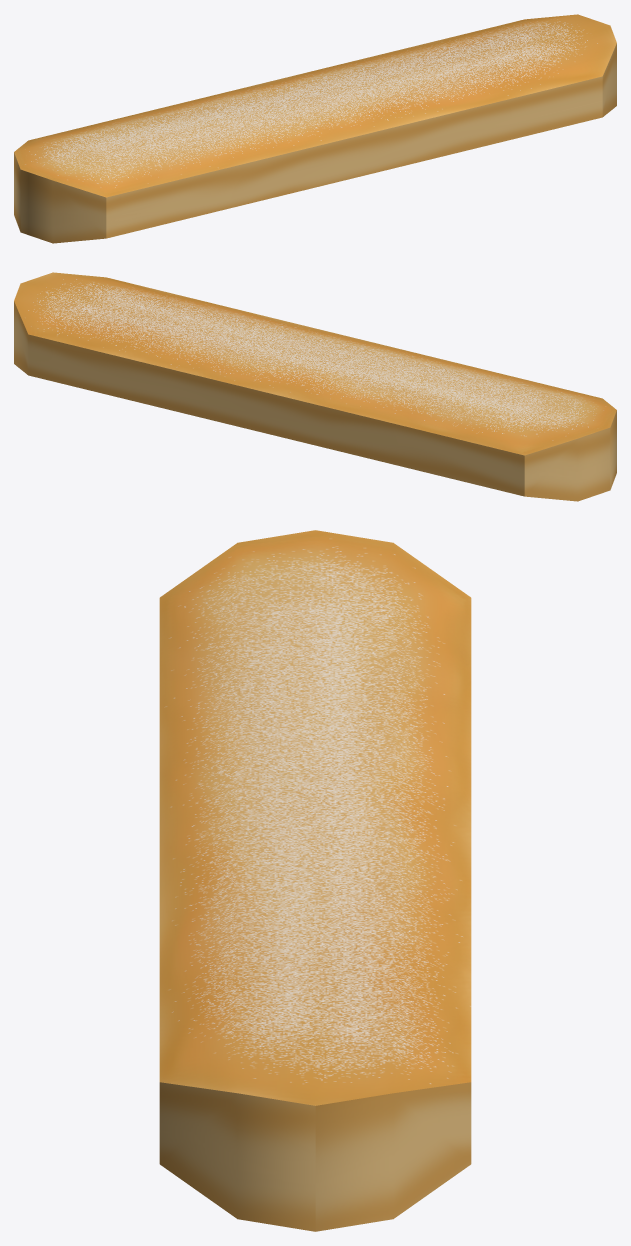
File: Lengua.fbx
The picture shows the model from 3 angles, top to bottom: view 1: azimuth 30°, elevation 25°; view 2: azimuth 150°, elevation 25°; view 3: azimuth 270°, elevation 25°; orthographic projection. The views are drawn at different scales.
Parts seen in each view (by area): view 1: pCube4; view 2: pCube4; view 3: pCube4.
Part boxes in pixels (box(x1,y1,x2,y2)): pCube4: box(14, 14, 616, 243); pCube4: box(14, 272, 616, 501); pCube4: box(159, 530, 471, 1231).
Size of the model in its own units: 141 by 14.35 by 32.22.
1 material, 1 textured.
